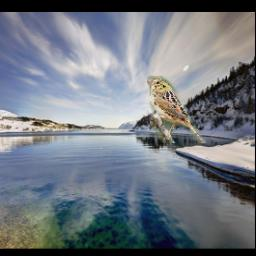Sparrow: (147, 77, 207, 144)
